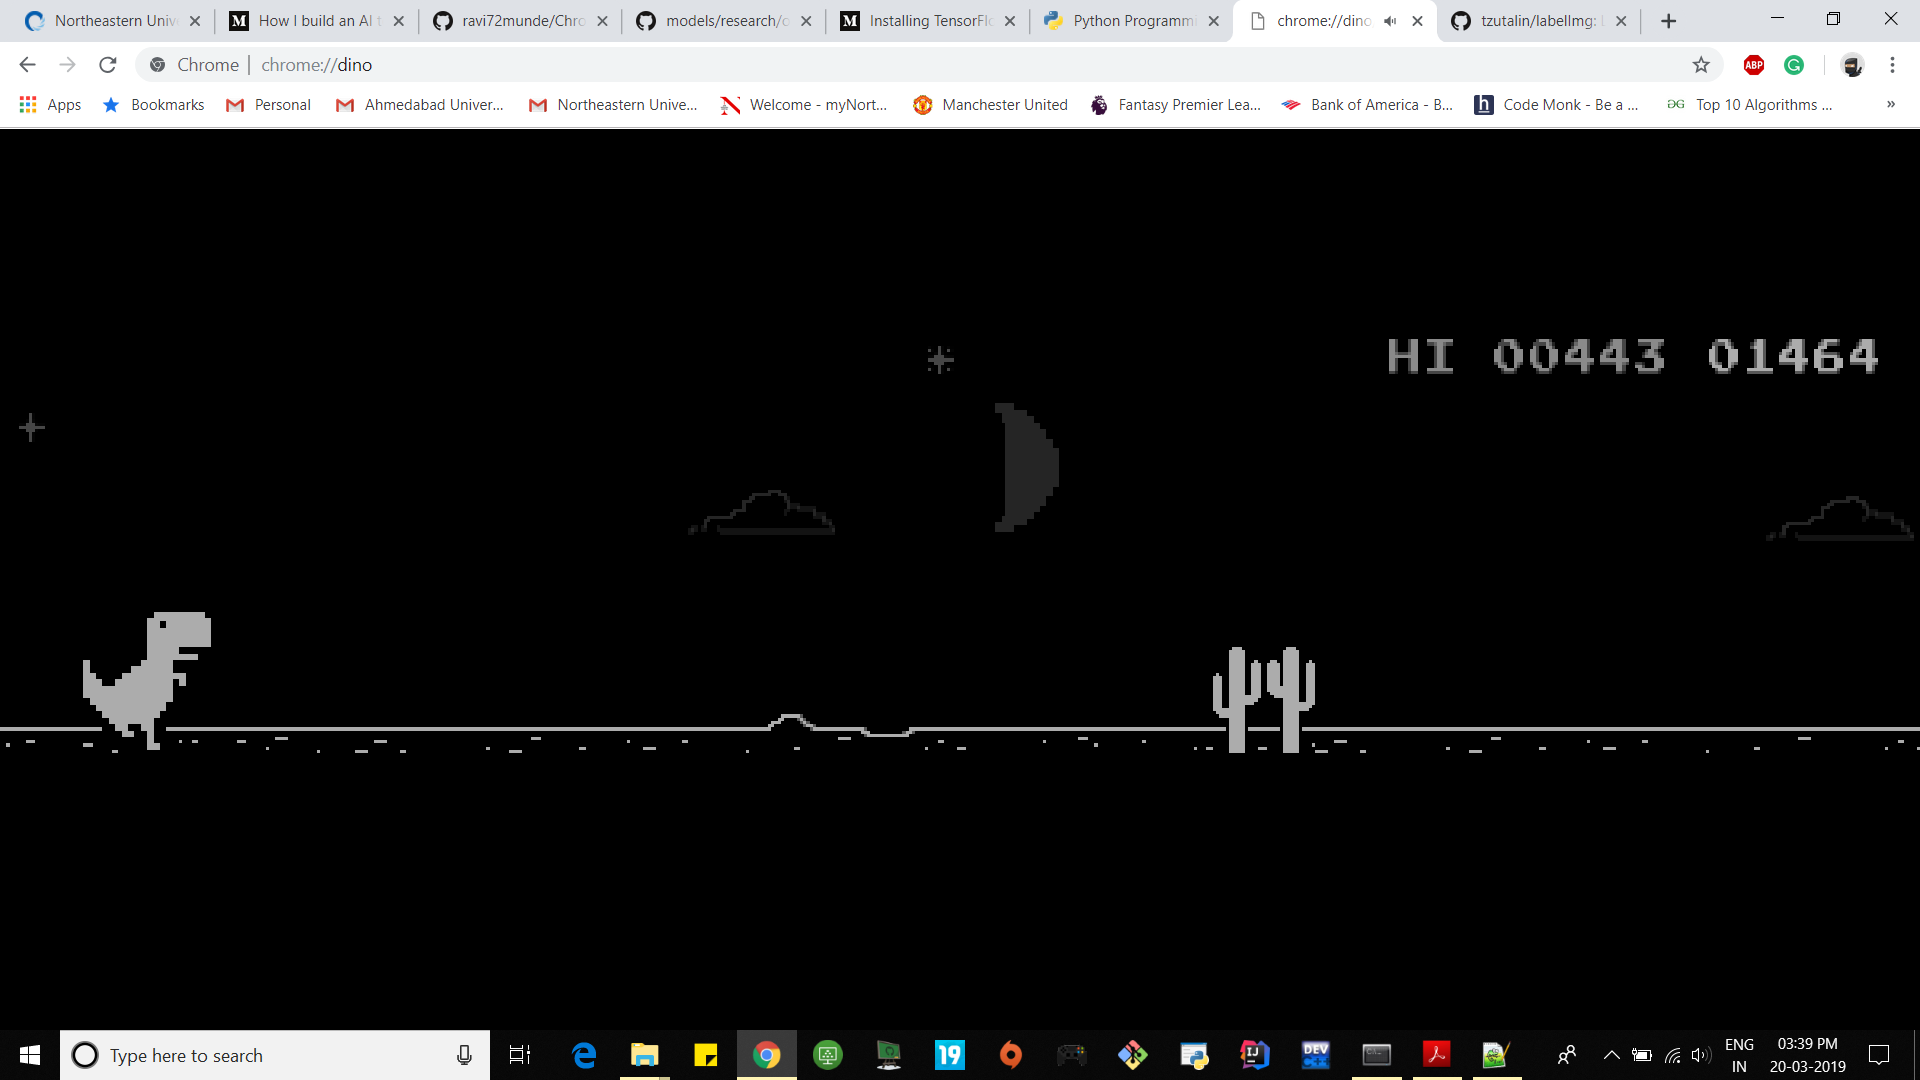cactus-2: (1213, 644, 1317, 760)
dino: (78, 611, 214, 752)
